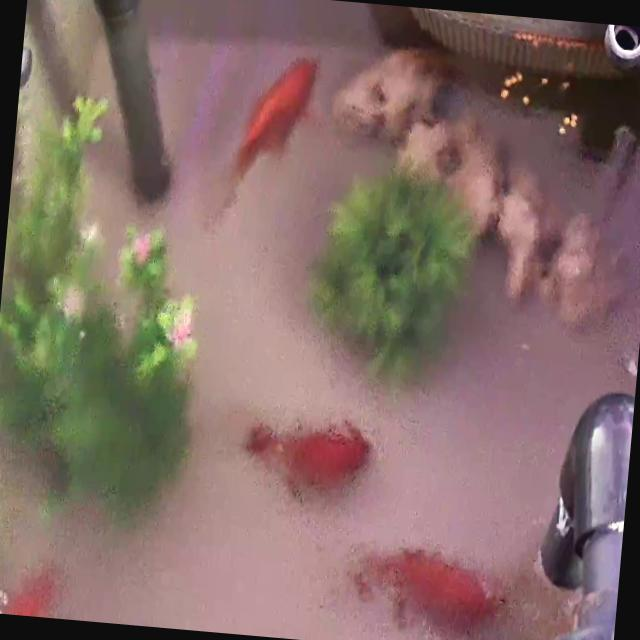fish: (228, 46, 319, 192), (354, 542, 496, 633), (242, 412, 364, 498), (0, 561, 59, 618)
